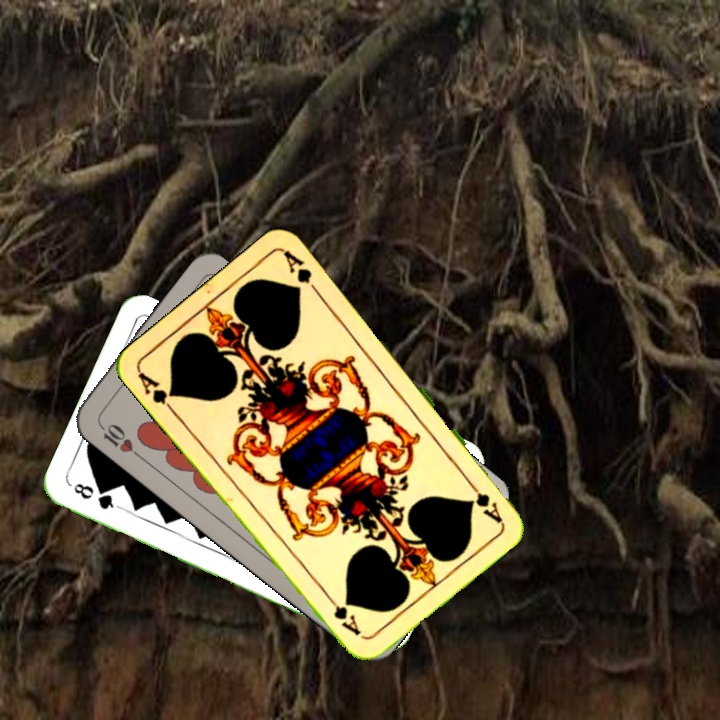G8: (69, 479, 123, 513)
GA: (133, 368, 179, 417), (462, 475, 505, 526)
H10: (94, 419, 144, 461)
